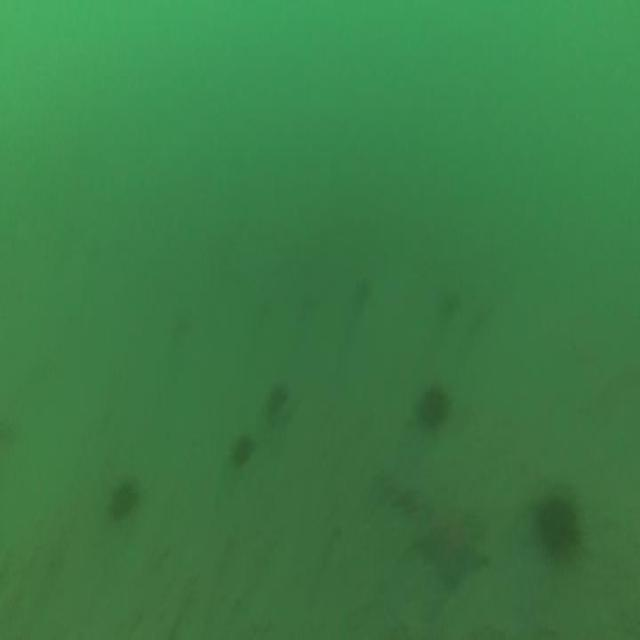echinus: (529, 487, 586, 564), (414, 379, 454, 438), (106, 469, 140, 528), (263, 376, 293, 424), (229, 428, 258, 476)
starfish: (408, 495, 496, 602)
